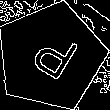P_SW: (21, 25, 80, 88)
